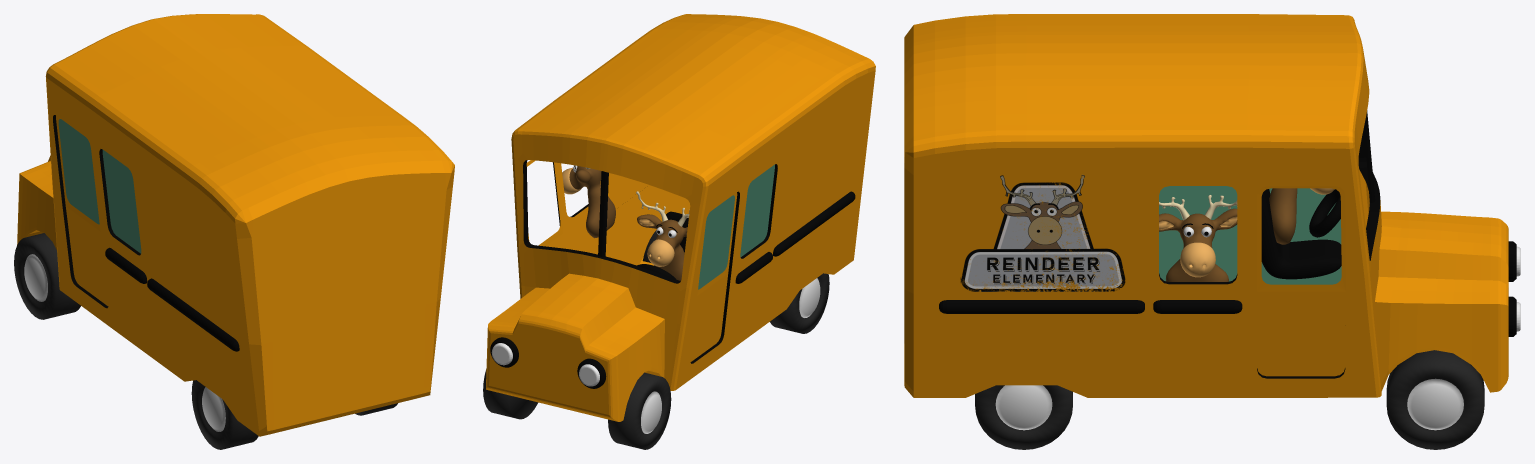
File: schoolbus.glb
The picture shows the model from 3 angles, left to right: view 1: azimuth 30°, elevation 25°; view 2: azimuth 150°, elevation 25°; view 3: azimuth 270°, elevation 25°; orthographic projection. The views are drawn at different scales.
Parts seen in each view (by area): view 1: Le Bus, Backdrop, Tire FrontLeft, Tire BackLeft; view 2: Le Bus, Backdrop, Tire FrontLeft, Driver, Tire BackLeft, Reindeer, Tire FrontRight; view 3: Le Bus, Decal, Tire FrontRight, Backdrop, Tire BackRight, Reindeer, Seat Driver, Driver, Steering Wheel.
Part boxes in pixels (box(x1,y1,x2,y2)): Le Bus: box(17, 14, 454, 436); Backdrop: box(58, 119, 141, 253); Tire FrontLeft: box(14, 233, 80, 319); Tire BackLeft: box(191, 380, 258, 449); Le Bus: box(486, 14, 875, 421); Backdrop: box(698, 164, 774, 289); Tire FrontLeft: box(608, 372, 671, 449); Driver: box(636, 191, 689, 280); Tire BackLeft: box(770, 273, 829, 333); Reindeer: box(562, 165, 615, 238); Tire FrontRight: box(483, 368, 538, 419); Le Bus: box(904, 14, 1520, 397); Decal: box(960, 174, 1125, 291); Tire FrontRight: box(1386, 350, 1484, 449); Backdrop: box(1159, 186, 1341, 284); Tire BackRight: box(975, 385, 1072, 449); Reindeer: box(1159, 195, 1237, 281); Seat Driver: box(1261, 189, 1341, 279); Driver: box(1269, 188, 1334, 244); Steering Wheel: box(1309, 189, 1340, 237).
Bounding box in the file's own units: 3.17 × 3.93 × 6.29.
Materials: 11 (1 with a texture image).
